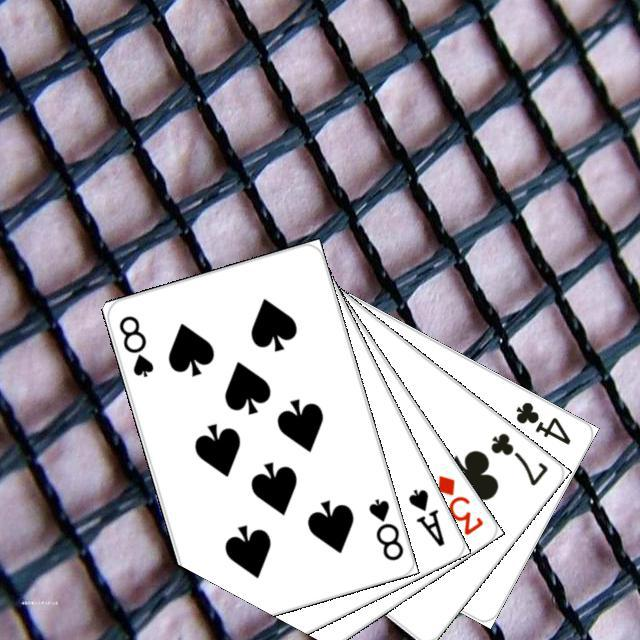3d: (432, 470, 485, 537)
4c: (510, 396, 573, 447)
7c: (485, 427, 550, 488)
8s: (363, 493, 405, 563), (114, 310, 155, 379)
As: (403, 484, 447, 549)
